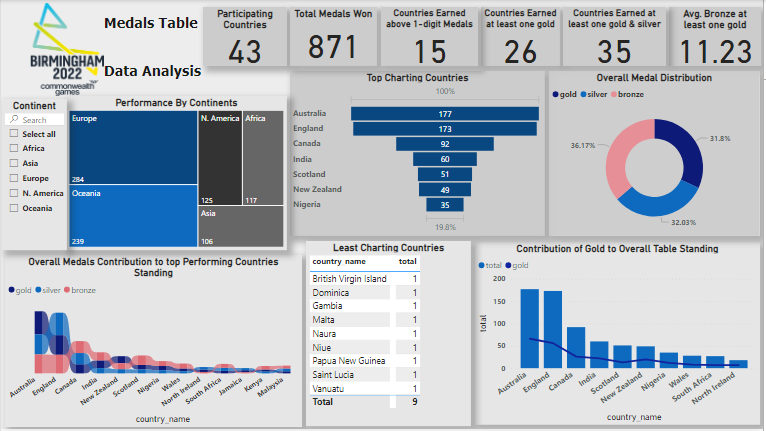

The dashboard page shown, as its layout file describes it:
{"tool":"powerbi","page":{"name":"Page 1","canvas":[1280,720],"ordinal":0},"visuals":[{"type":"lineClusteredColumnComboChart","title":"Contribution of Gold to Overall Table Standing","fields":{"Category":["2022 Common Wealth Games Data.country_name"],"Y":["Sum(2022 Common Wealth Games Data.total)"],"Y2":["Sum(2022 Common Wealth Games Data.gold)"]},"box":[796.2,406.5,478.7,307.4],"z":0},{"type":"ribbonChart","title":"Overall Medals Contribution to top Performing Countries Standing","fields":{"Category":["2022 Common Wealth Games Data.country_name"],"Y":["Sum(2022 Common Wealth Games Data.gold)","Sum(2022 Common Wealth Games Data.silver)","Sum(2022 Common Wealth Games Data.bronze)"]},"box":[6.7,428.3,498.9,288.9],"z":1000},{"type":"card","title":"Participating Countries","fields":{"Values":["Count(2022 Common Wealth Games Data.country_name)"]},"box":[339.3,11.8,141.1,99.1],"z":2000},{"type":"card","title":"Countries Earned at least one gold","fields":{"Values":["Count(2022 Common Wealth Games Data.country_name)"]},"box":[806.3,11.8,132.7,99.1],"z":3000},{"type":"card","title":"Avg. Bronze at least one gold","fields":{"Values":["Avg(2022 Common Wealth Games Data.bronze)"]},"box":[1122.1,11.8,154.5,99.1],"z":4000},{"type":"funnel","title":"Top Charting Countries","fields":{"Category":["2022 Common Wealth Games Data.country_name"],"Y":["Sum(2022 Common Wealth Games Data.total)"]},"box":[485.5,119.3,428.3,277.2],"z":5000},{"type":"card","title":"Countries Earned at least one gold & silver","fields":{"Values":["Count(2022 Common Wealth Games Data.country_name)"]},"box":[944,11.8,173,99.1],"z":6000},{"type":"donutChart","title":"Overall Medal Distribution ","fields":{"Y":["Sum(2022 Common Wealth Games Data.gold)","Sum(2022 Common Wealth Games Data.silver)","Sum(2022 Common Wealth Games Data.bronze)"]},"box":[920.5,119.3,354.4,277.2],"z":7000},{"type":"card","title":"Total Medals Won","fields":{"Values":["Sum(2022 Common Wealth Games Data.total)"]},"box":[485.5,11.8,146.1,99.1],"z":8000},{"type":"tableEx","title":"Least Charting Countries","fields":{"Values":["2022 Common Wealth Games Data.country_name","Sum(2022 Common Wealth Games Data.total)"]},"box":[512.3,404.8,277.2,310.8],"z":9000},{"type":"image","box":[0,0,221.7,166.3],"z":10000},{"type":"card","title":"Countries Earned above 1-digit Medals ","fields":{"Values":["Count(2022 Common Wealth Games Data.country_name)"]},"box":[638.3,11.8,162.9,99.1],"z":11000},{"type":"treemap","title":"Performance By Continents","fields":{"Group":["2022 Common Wealth Games Data.Continent"],"Values":["Sum(2022 Common Wealth Games Data.total)"]},"box":[109.2,161.3,371.2,258.7],"z":12000},{"type":"textbox","box":[168,18.5,194.9,131],"z":13000},{"type":"slicer","title":"Continent","fields":{"Values":["2022 Common Wealth Games Data.Continent"]},"box":[1.7,166.3,109.2,253.6],"z":13001}]}

Visuals, with their boxes in screenshot pixels (x1, y1, x2, y2), scaled from the page's 1280x720 canvas onto the 766x431 screenshot:
"Contribution of Gold to Overall Table Standing" lineClusteredColumnComboChart: bbox=[476, 243, 763, 427]
"Overall Medals Contribution to top Performing Countries Standing" ribbonChart: bbox=[4, 256, 303, 429]
"Participating Countries" card: bbox=[203, 7, 287, 66]
"Countries Earned at least one gold" card: bbox=[483, 7, 562, 66]
"Avg. Bronze at least one gold" card: bbox=[672, 7, 764, 66]
"Top Charting Countries" funnel: bbox=[291, 71, 547, 237]
"Countries Earned at least one gold & silver" card: bbox=[565, 7, 668, 66]
"Overall Medal Distribution " donutChart: bbox=[551, 71, 763, 237]
"Total Medals Won" card: bbox=[291, 7, 378, 66]
"Least Charting Countries" tableEx: bbox=[307, 242, 472, 428]
image: bbox=[0, 0, 133, 100]
"Countries Earned above 1-digit Medals " card: bbox=[382, 7, 479, 66]
"Performance By Continents" treemap: bbox=[65, 97, 287, 251]
textbox: bbox=[101, 11, 217, 89]
"Continent" slicer: bbox=[1, 100, 66, 251]
